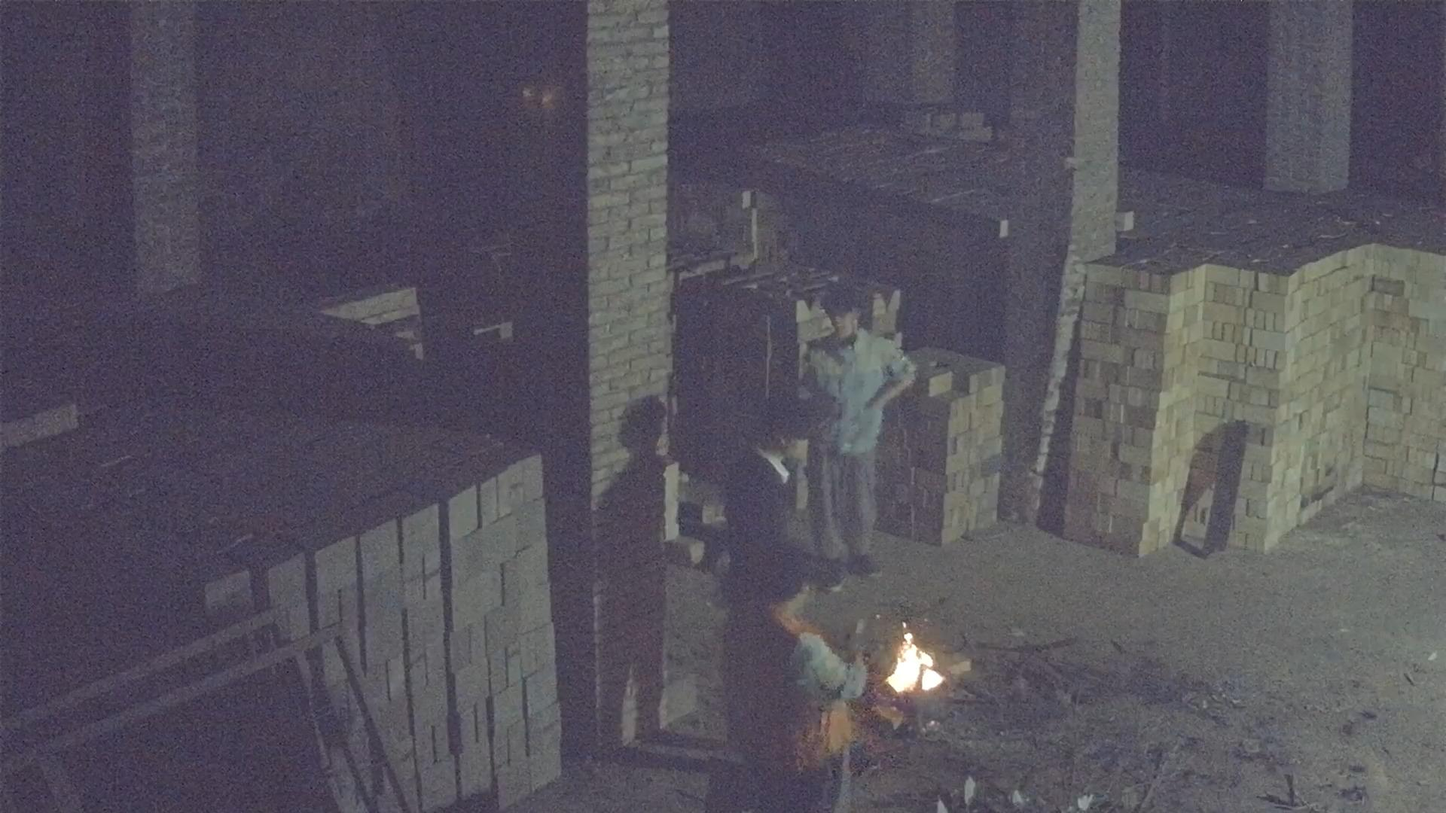fire: (886, 632, 945, 694)
